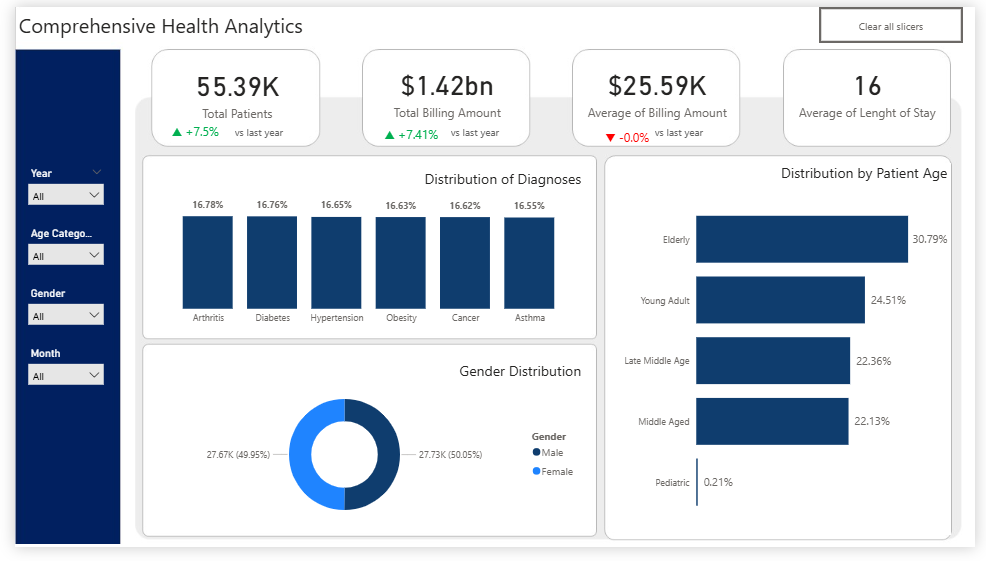

Layout of this report page (visuals, bound fields, positions):
{"tool":"powerbi","page":{"name":"Patient Overview","canvas":[1280,720],"ordinal":0},"visuals":[{"type":"donutChart","title":"Gender Distribution ","fields":{"Category":["healthcare_dataset.Gender"],"Y":["CountNonNull(healthcare_dataset.Gender)"]},"box":[176,464,576,224],"z":0},{"type":"lineClusteredColumnComboChart","title":"Distribution of Diagnoses ","fields":{"Category":["healthcare_dataset.Medical Condition"],"Y":["Divide(CountNonNull(healthcare_dataset.Full Name), ScopedEval(CountNonNull(healthcare_dataset.Full Name), []))"]},"box":[176,208,608,240],"z":1000},{"type":"barChart","title":"Distribution by Patient Age ","fields":{"Category":["healthcare_dataset.Age Category"],"Y":["CountNonNull(healthcare_dataset.Age Category)"]},"box":[800,208,448,496],"z":2000},{"type":"card","fields":{"Values":["CountNonNull(healthcare_dataset.Index)"]},"box":[192,64,192,80],"z":3000},{"type":"card","fields":{"Values":["Sum(healthcare_dataset.Billing Amount)"]},"box":[480,64,192,96],"z":4000},{"type":"card","fields":{"Values":["Avg(healthcare_dataset.Lenght of Stay)"]},"box":[1040,64,208,96],"z":5000},{"type":"card","fields":{"Values":["Avg(healthcare_dataset.Billing Amount)"]},"box":[752,64,208,96],"z":6000},{"type":"slicer","fields":{"Values":["healthcare_dataset.Age Category"]},"box":[0,288,144,80],"z":7000},{"type":"slicer","fields":{"Values":["healthcare_dataset.Gender"]},"box":[0,368,144,80],"z":8000},{"type":"slicer","fields":{"Values":["Date.Year"]},"box":[0,208,128,64],"z":9000},{"type":"slicer","fields":{"Values":["Date.Month"]},"box":[0,448,144,80],"z":10000},{"type":"actionButton","box":[1072,0,192,48],"z":11000},{"type":"textbox","box":[0,0,624,48],"z":12000},{"type":"textbox","box":[288,152,96,32],"z":13000},{"type":"textbox","box":[576,152,96,32],"z":14000},{"type":"textbox","box":[848,152,96,32],"z":15000},{"type":"card","fields":{"Values":["Date.Total Patient KPI"]},"box":[192,144,96,48],"z":16000},{"type":"card","fields":{"Values":["Date.Billing KPI Icon"]},"box":[480,144,96,40],"z":17000},{"type":"card","fields":{"Values":["Date.Average Billing KPI Icon"]},"box":[768,144,88,48],"z":18000}]}

Visuals, with their boxes in screenshot pixels (x1, y1, x2, y2), scaled from the page's 1280x720 canvas onto the 986x561 screenshot:
"Gender Distribution " donutChart: box=[136, 362, 579, 536]
"Distribution of Diagnoses " lineClusteredColumnComboChart: box=[136, 162, 604, 349]
"Distribution by Patient Age " barChart: box=[616, 162, 961, 549]
card - CountNonNull(healthcare_dataset.Index): box=[148, 50, 296, 112]
card - Sum(healthcare_dataset.Billing Amount): box=[370, 50, 518, 125]
card - Avg(healthcare_dataset.Lenght of Stay): box=[801, 50, 961, 125]
card - Avg(healthcare_dataset.Billing Amount): box=[579, 50, 740, 125]
slicer - healthcare_dataset.Age Category: box=[0, 224, 111, 287]
slicer - healthcare_dataset.Gender: box=[0, 287, 111, 349]
slicer - Date.Year: box=[0, 162, 99, 212]
slicer - Date.Month: box=[0, 349, 111, 411]
actionButton: box=[826, 0, 974, 37]
textbox: box=[0, 0, 481, 37]
textbox: box=[222, 118, 296, 143]
textbox: box=[444, 118, 518, 143]
textbox: box=[653, 118, 727, 143]
card - Date.Total Patient KPI: box=[148, 112, 222, 150]
card - Date.Billing KPI Icon: box=[370, 112, 444, 143]
card - Date.Average Billing KPI Icon: box=[592, 112, 659, 150]
